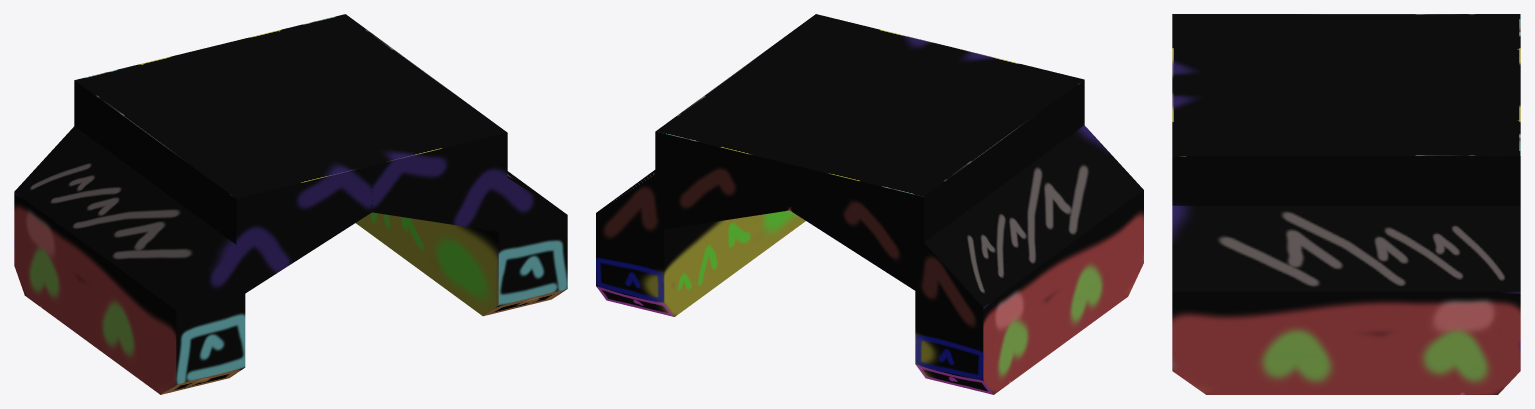
File: enemy_treaded_base.fbx
3 renders of one model, left to right at view 1: azimuth 30°, elevation 25°; view 2: azimuth 150°, elevation 25°; view 3: azimuth 270°, elevation 25°, orthographic. The views are drawn at different scales.
Parts seen in each view (by area): view 1: Cube; view 2: Cube; view 3: Cube.
Boxes of the visible parts, left/top/right/bottom form: Cube: left=14, top=14, right=567, bottom=394; Cube: left=596, top=14, right=1143, bottom=394; Cube: left=1172, top=14, right=1520, bottom=394.
Bounding box in the file's own units: 411 × 194 × 295.
